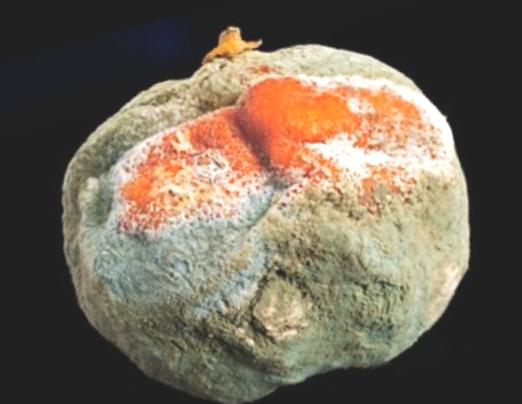Orange Rotten: (58, 17, 478, 395)
